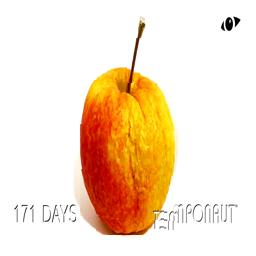Apple Semirotten: (80, 11, 182, 235)
